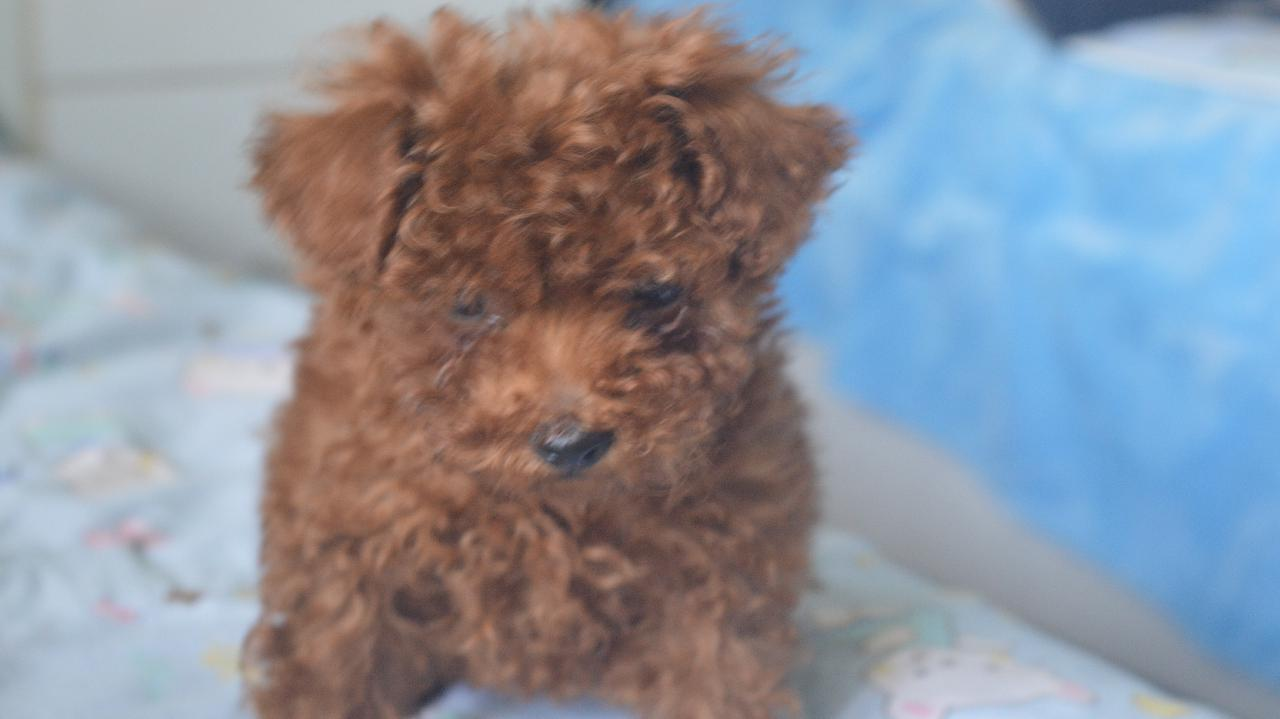coin: (249, 14, 848, 719)
